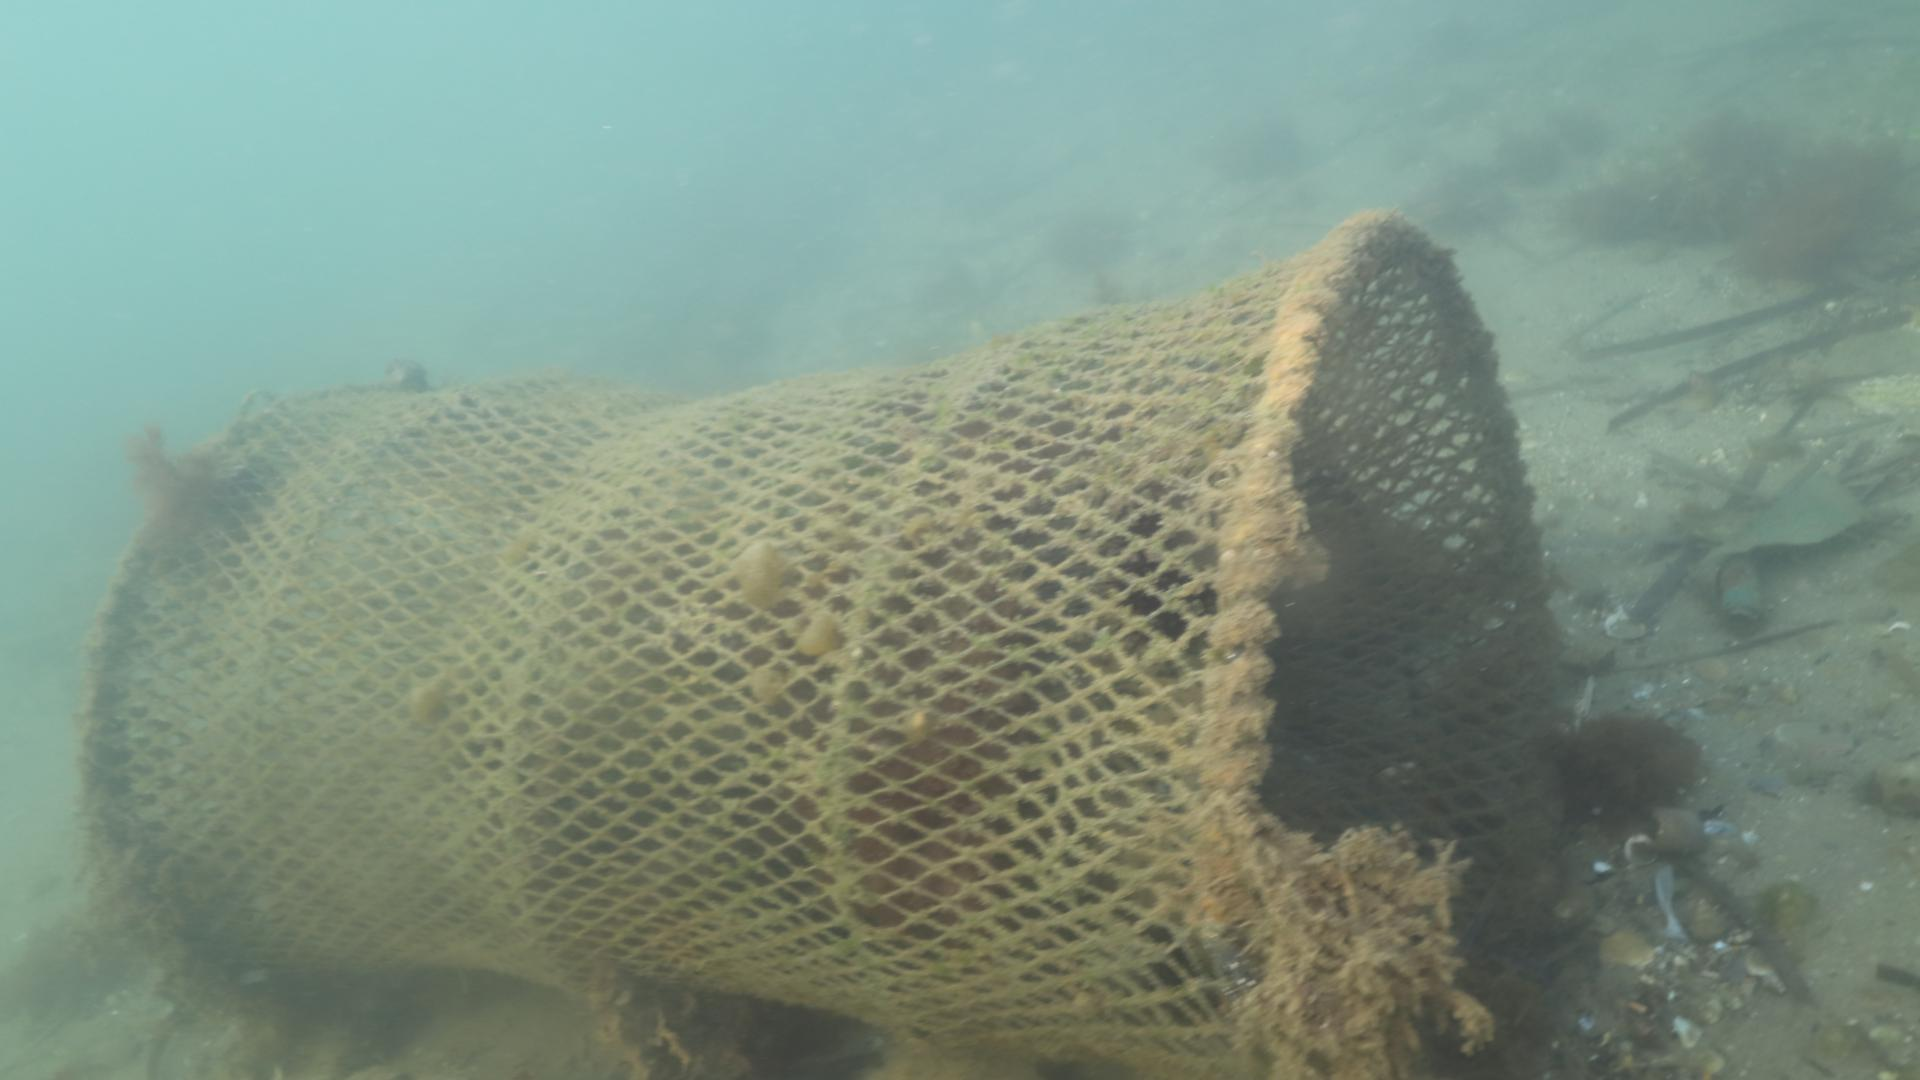spring fish trap: (70, 206, 1557, 1080)
